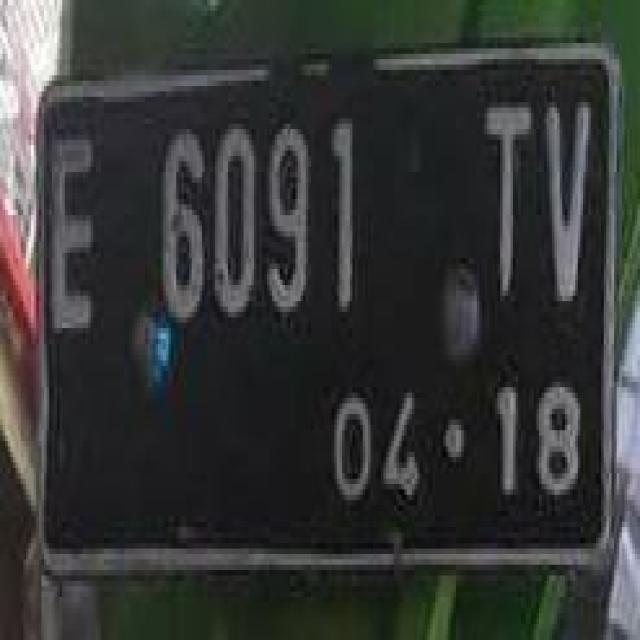0: (207, 113, 259, 328)
1: (322, 110, 366, 309)
6: (149, 124, 209, 328)
9: (262, 116, 314, 320)
E: (46, 126, 108, 352)
T: (476, 94, 536, 304)
V: (539, 86, 596, 307)
